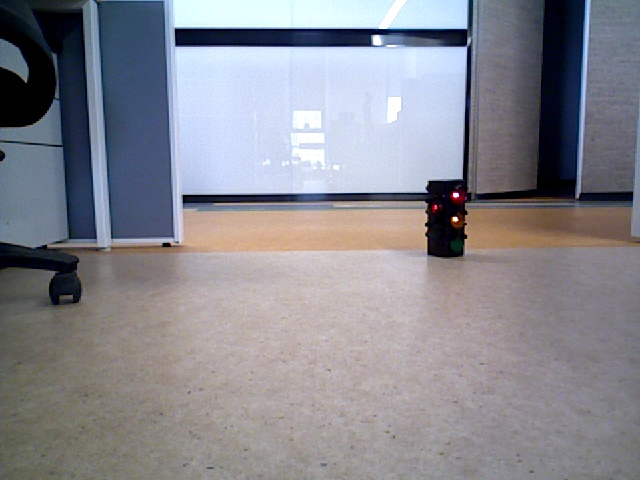red: (427, 180, 463, 253)
